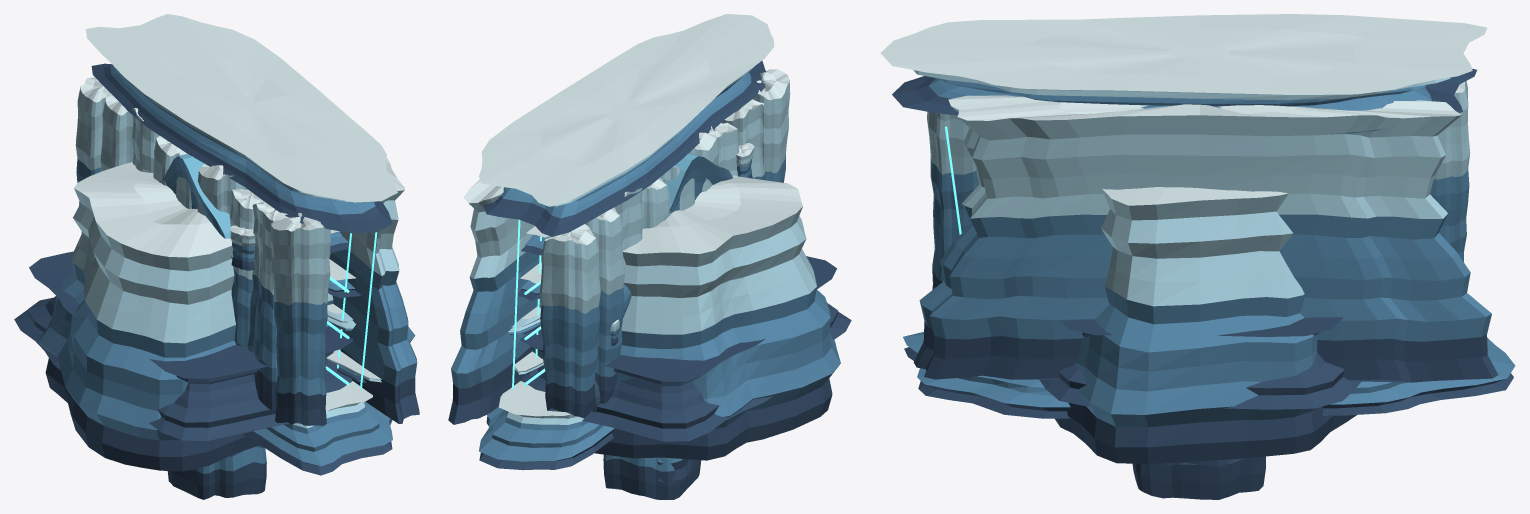
The model's file is glasswake-environment-v2.glb.
3 views of the same model, side by side, from view 1: azimuth 30°, elevation 25°; view 2: azimuth 150°, elevation 25°; view 3: azimuth 270°, elevation 25° (orthographic). The views are drawn at different scales.
Parts seen in each view (by area): view 1: far_fragment, calving_roof, basal_strata, calving_chunk_08, calving_back, calving_floor, calving_chunk_07, cliff_2, calving_chunk_00, calving_chunk_06, calving_chunk_01, recess_wall (+7 smaller); view 2: far_fragment, calving_roof, calving_back, basal_strata, calving_chunk_00, calving_floor, calving_chunk_01, cliff_2, calving_chunk_08, recess_wall, calving_chunk_07, calving_chunk_02 (+8 smaller); view 3: calving_back, far_fragment, calving_roof, calving_floor, basal_strata, calving_chunk_08, cliff_2, calving_chunk_00.
Boxes of the visible parts, left/top/right/bottom form: far_fragment: left=39, top=162, right=415, bottom=471; calving_roof: left=86, top=14, right=397, bottom=233; basal_strata: left=14, top=251, right=353, bottom=440; calving_chunk_08: left=270, top=212, right=330, bottom=426; calving_back: left=329, top=157, right=419, bottom=423; calving_floor: left=242, top=381, right=392, bottom=475; calving_chunk_07: left=247, top=201, right=279, bottom=411; cliff_2: left=167, top=445, right=266, bottom=499; calving_chunk_00: left=75, top=77, right=110, bottom=233; calving_chunk_06: left=229, top=189, right=264, bottom=347; calving_chunk_01: left=100, top=93, right=133, bottom=171; recess_wall: left=159, top=153, right=232, bottom=259; far_fragment: left=532, top=175, right=840, bottom=460; calving_roof: left=478, top=14, right=774, bottom=236; calving_back: left=448, top=179, right=541, bottom=424; basal_strata: left=520, top=256, right=851, bottom=441; calving_chunk_00: left=539, top=224, right=600, bottom=417; calving_floor: left=479, top=381, right=614, bottom=470; calving_chunk_01: left=585, top=207, right=624, bottom=403; cliff_2: left=603, top=454, right=701, bottom=499; calving_chunk_08: left=753, top=69, right=790, bottom=182; recess_wall: left=592, top=153, right=732, bottom=412; calving_chunk_07: left=721, top=99, right=764, bottom=180; calving_chunk_02: left=614, top=188, right=643, bottom=269; calving_back: left=913, top=95, right=1497, bottom=382; far_fragment: left=1055, top=187, right=1356, bottom=463; calving_roof: left=880, top=14, right=1487, bottom=133; calving_floor: left=903, top=332, right=1515, bottom=418; basal_strata: left=1039, top=317, right=1360, bottom=409; calving_chunk_08: left=927, top=111, right=979, bottom=289; cliff_2: left=1132, top=456, right=1265, bottom=499; calving_chunk_00: left=1430, top=81, right=1470, bottom=261.
Size of the model in its own units: 360 by 395 by 505.
